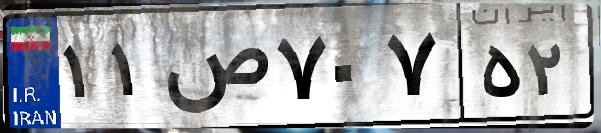0: (330, 28, 385, 110)
1: (57, 26, 110, 100), (110, 28, 158, 98)
2: (525, 38, 570, 115)
5: (475, 38, 525, 113)
7: (270, 28, 330, 110), (385, 28, 445, 110)
ص: (158, 20, 270, 120)
